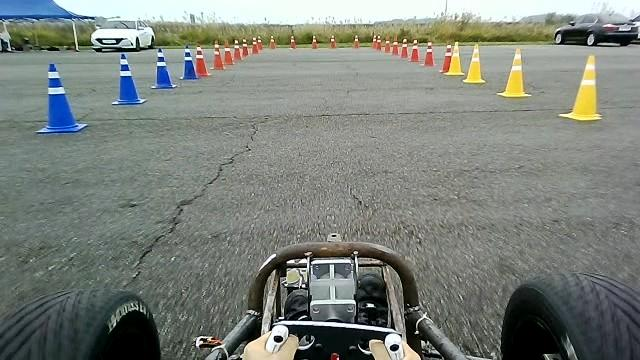blue cone: (35, 62, 88, 133), (111, 52, 146, 105), (150, 48, 177, 89), (178, 44, 199, 80)
red cone: (195, 45, 211, 76), (420, 41, 436, 66)
yellow cone: (558, 54, 602, 121), (496, 47, 531, 97), (462, 43, 486, 83), (448, 42, 464, 76)
